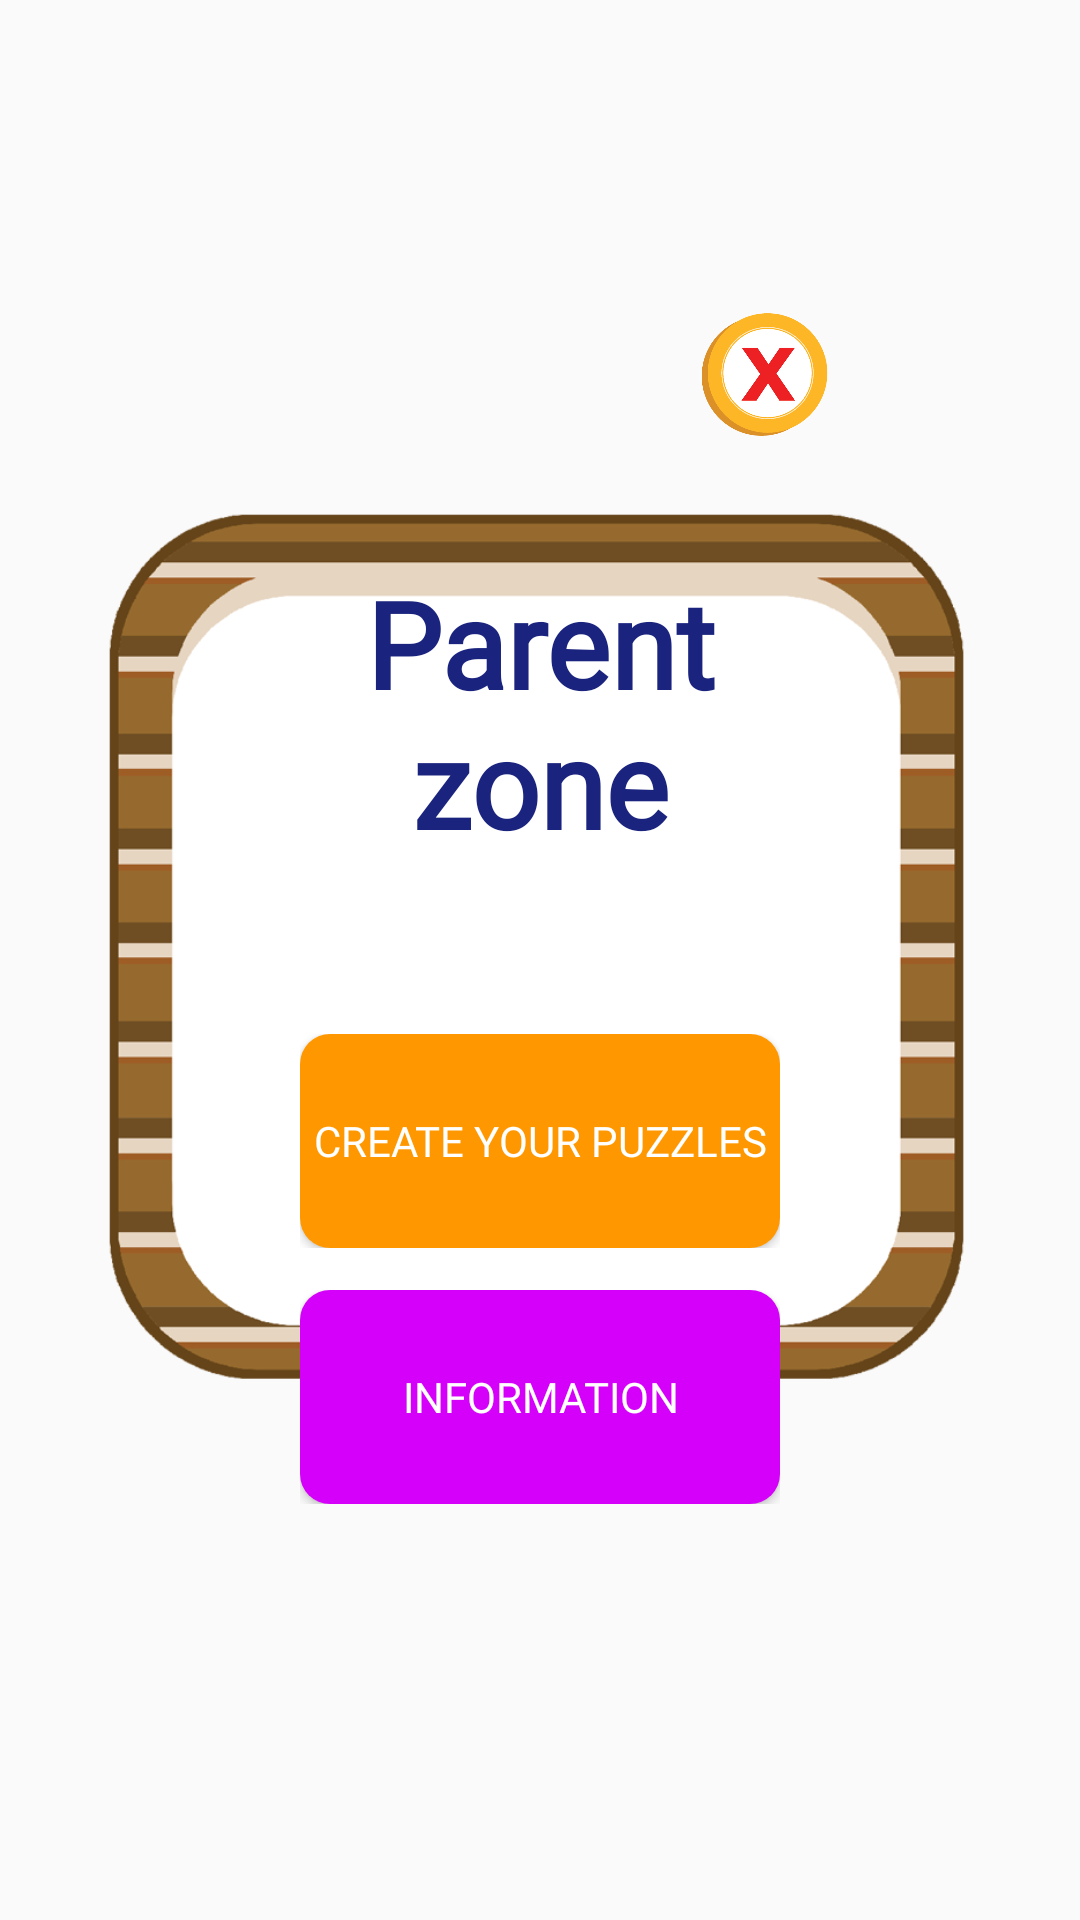

Where to tap for icons on this 1080px×1920px app screen, as (x=x, y=y):
canclebtn: (x=765, y=374)
